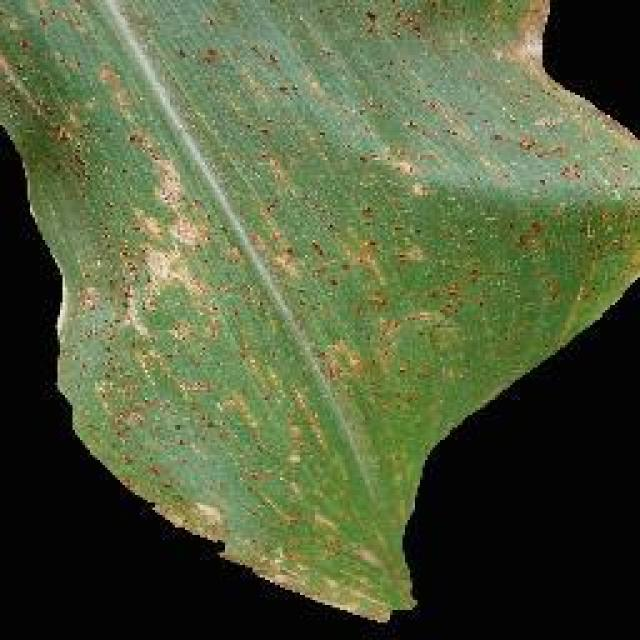Corn Common Rust: (125, 3, 515, 572)
